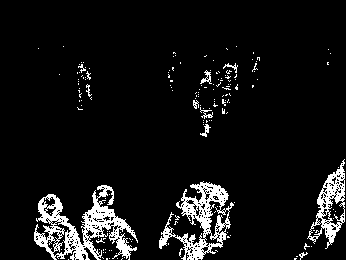person: (293, 159, 346, 260), (81, 184, 139, 260), (34, 192, 88, 260), (193, 69, 218, 138), (218, 62, 239, 115)
